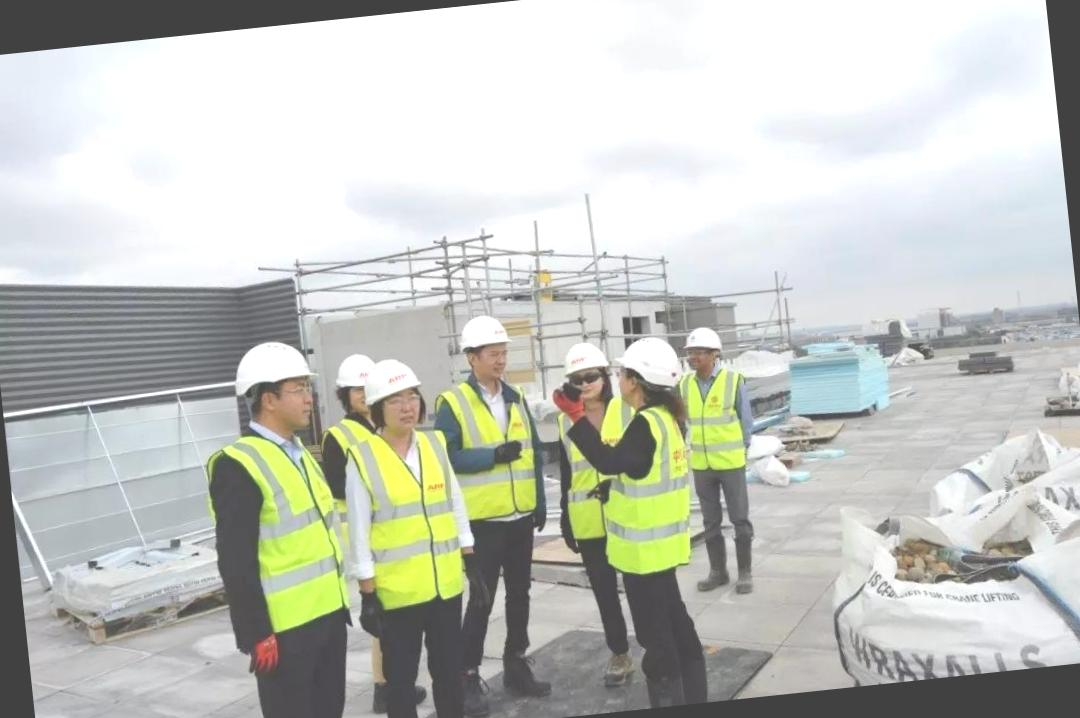helmet: (227, 336, 321, 392), (358, 352, 423, 409), (622, 332, 680, 392), (453, 310, 517, 358), (556, 335, 608, 376), (679, 321, 721, 354)
person: (186, 333, 359, 718), (431, 307, 572, 713), (332, 355, 489, 718), (587, 326, 729, 710), (678, 318, 769, 601)
